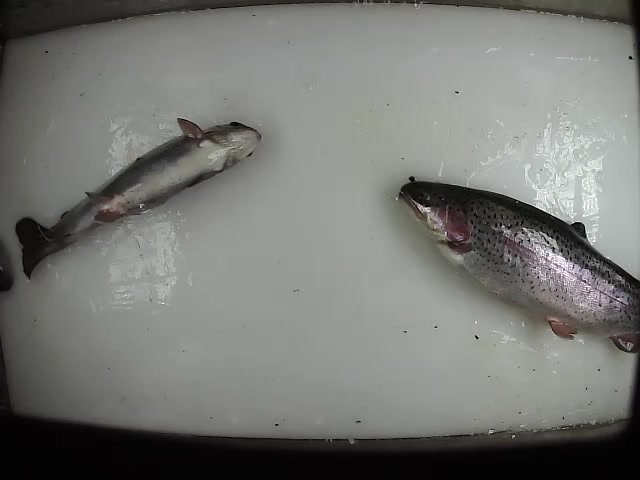fish: (391, 173, 640, 359), (12, 116, 264, 281)
